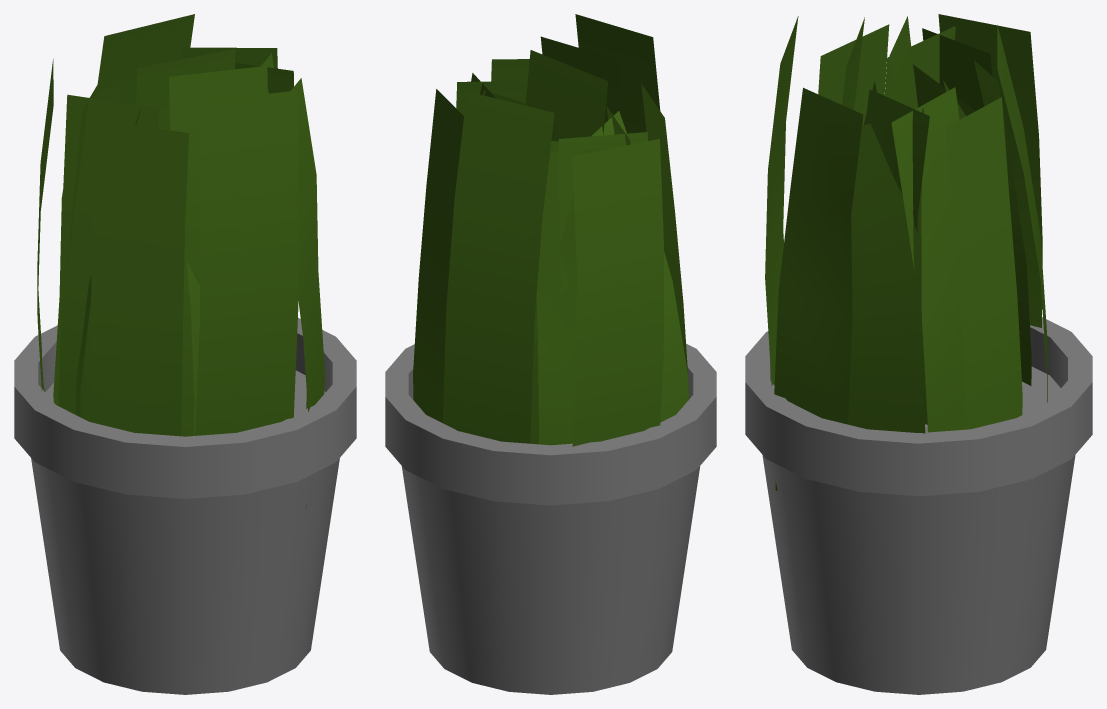
File: SM_flowerpot_05.fbx
The picture shows the model from 3 angles, left to right: view 1: azimuth 30°, elevation 25°; view 2: azimuth 150°, elevation 25°; view 3: azimuth 270°, elevation 25°; orthographic projection. The views are drawn at different scales.
Visible parts, largest first — view 1: Cylinder216; view 2: Cylinder216; view 3: Cylinder216.
Part boxes in pixels (box(x1,y1,x2,y2)): Cylinder216: box(14, 14, 356, 694); Cylinder216: box(385, 14, 716, 694); Cylinder216: box(745, 14, 1092, 694).
Size of the model in its own units: 14.16 by 26.71 by 13.95.
